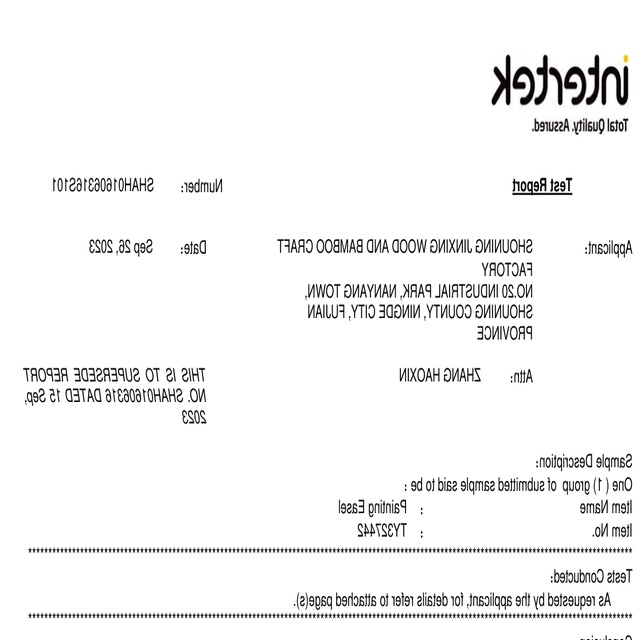intertek: (493, 52, 631, 109)
